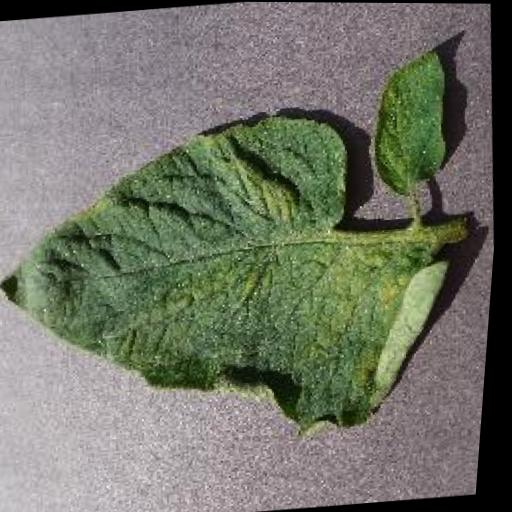Spider Mites: (0, 100, 475, 466), (360, 39, 462, 200)
